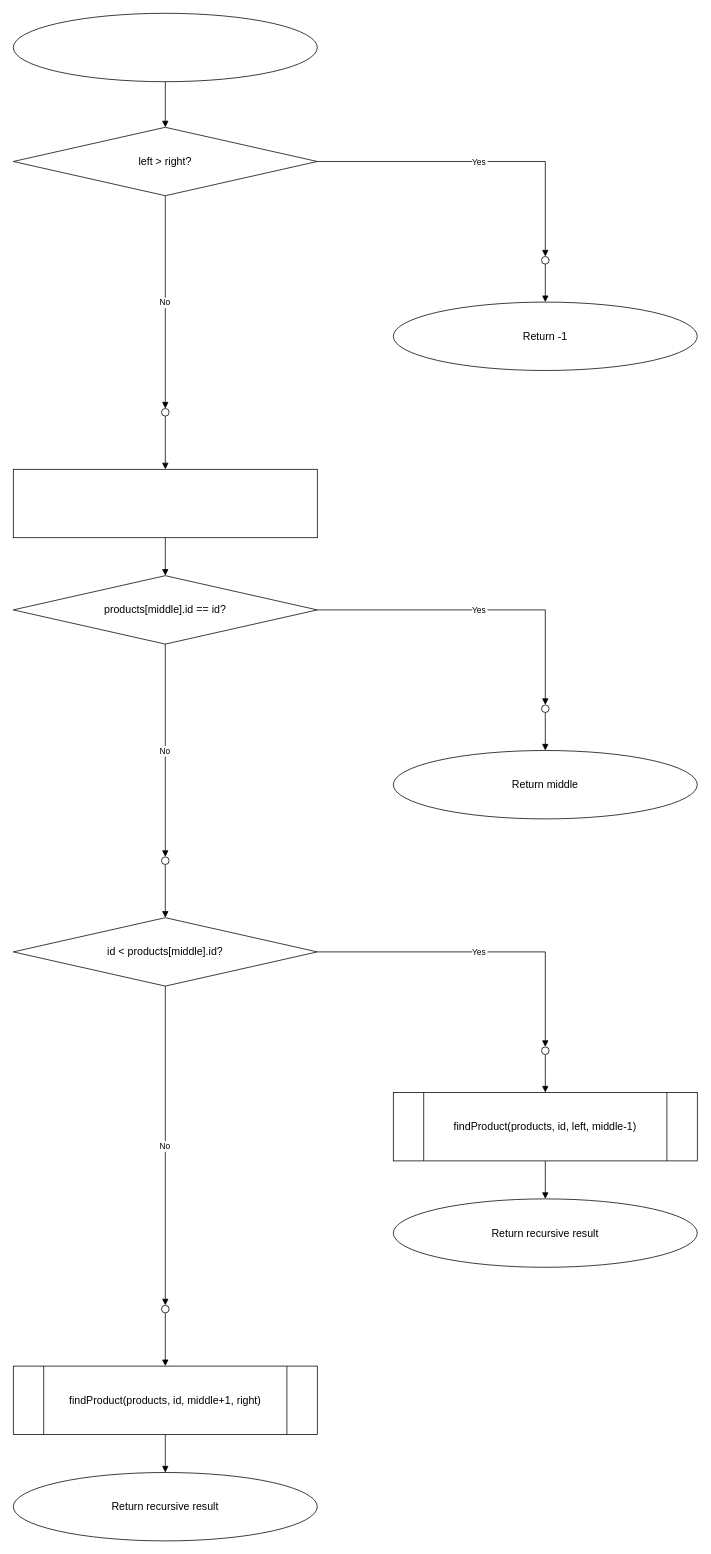
This 711x1554 diagram has some shape labels left out. The box of each missing label's shape, as (x1, y1, x2, y2) in pixels:
middle = left + (right-left)/2: (13, 469, 317, 538)
Start findProduct(products, id, left, right): (13, 13, 317, 82)
